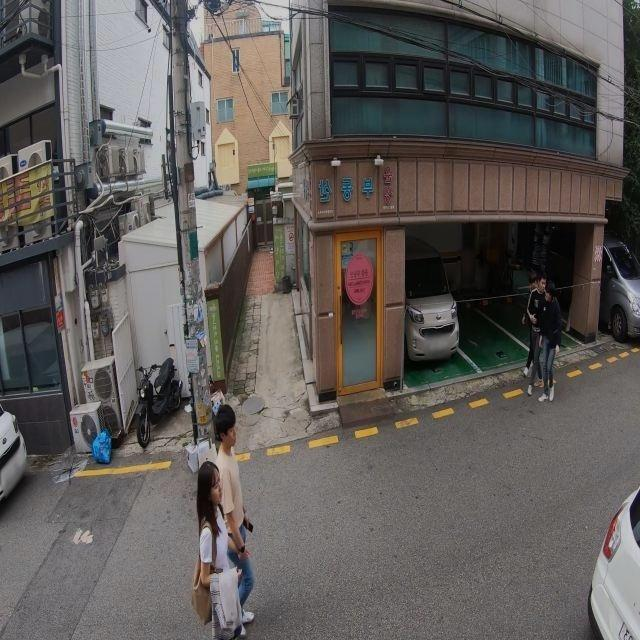fight: (522, 274, 564, 403)
non-fight: (205, 403, 259, 625), (192, 453, 239, 640)
